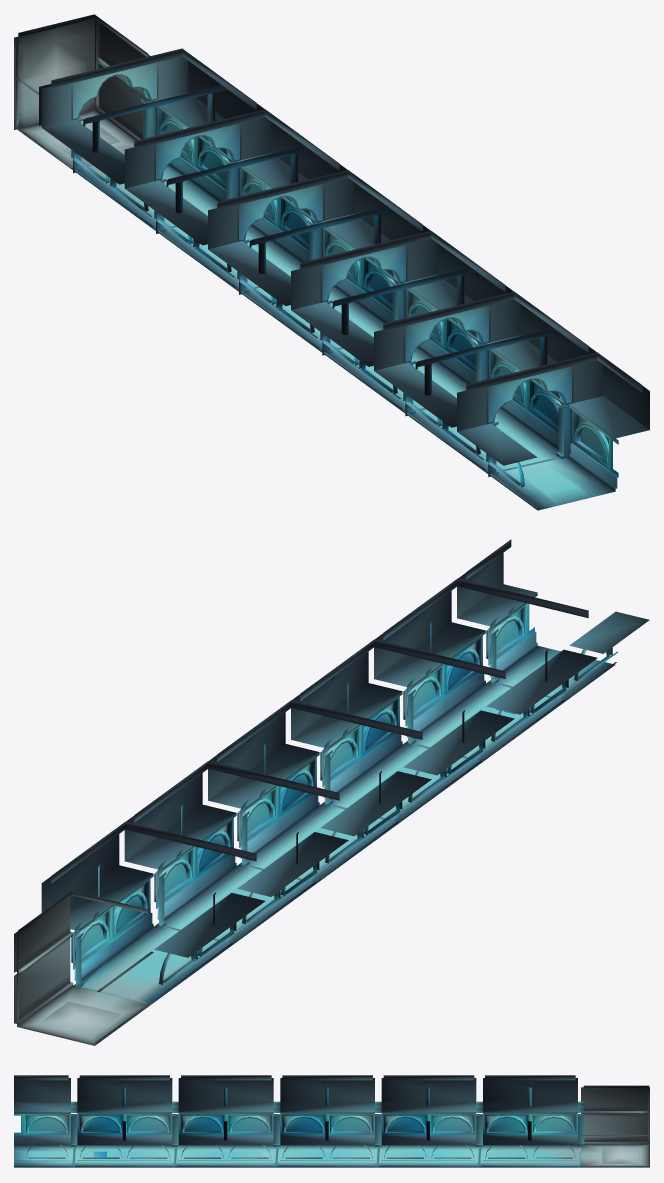
The model's file is 03HallB.gltf.
3 renders of one model, top to bottom at view 1: azimuth 30°, elevation 25°; view 2: azimuth 150°, elevation 25°; view 3: azimuth 270°, elevation 25°, orthographic. The views are drawn at different scales.
Visible parts, largest first — view 1: stg040_o36_Mesh_0013, stg040_o36_Mesh_0010, stg040_o36_Mesh_0004, stg040_o36_Mesh_0003, stg040_o36_Mesh_0005, stg040_o36_Mesh_0008, stg040_o36_Mesh_0006, stg040_o36_Mesh_0015, stg040_o36_Mesh_0007, stg040_o36_Mesh_0012, stg040_o36_Mesh_0002, stg040_o36_Mesh_0011; view 2: stg040_o36_Mesh_0004, stg040_o36_Mesh_0003, stg040_o36_Mesh_0008, stg040_o36_Mesh_0013, stg040_o36_Mesh_0005, stg040_o36_Mesh_0015, stg040_o36_Mesh_0007, stg040_o36_Mesh_0012, stg040_o36_Mesh_0006, stg040_o36_Mesh_0009, stg040_o36_Mesh_0002; view 3: stg040_o36_Mesh_0004, stg040_o36_Mesh_0008, stg040_o36_Mesh_0005, stg040_o36_Mesh_0003, stg040_o36_Mesh_0013, stg040_o36_Mesh_0007, stg040_o36_Mesh_0012, stg040_o36_Mesh_0015, stg040_o36_Mesh_0006, stg040_o36_Mesh_0014, stg040_o36_Mesh_0002, stg040_o36_Mesh_0009 (+1 smaller).
Part boxes in pixels (x1,y1,x2,y2): stg040_o36_Mesh_0013: (14, 19, 642, 505); stg040_o36_Mesh_0010: (44, 56, 600, 429); stg040_o36_Mesh_0004: (42, 92, 649, 465); stg040_o36_Mesh_0003: (14, 89, 618, 507); stg040_o36_Mesh_0005: (15, 19, 618, 510); stg040_o36_Mesh_0008: (20, 61, 649, 429); stg040_o36_Mesh_0006: (14, 14, 603, 474); stg040_o36_Mesh_0015: (83, 167, 607, 508); stg040_o36_Mesh_0007: (99, 22, 606, 459); stg040_o36_Mesh_0012: (99, 63, 574, 492); stg040_o36_Mesh_0002: (14, 99, 559, 473); stg040_o36_Mesh_0011: (14, 66, 94, 111); stg040_o36_Mesh_0004: (70, 584, 649, 960); stg040_o36_Mesh_0003: (14, 615, 617, 1043); stg040_o36_Mesh_0008: (19, 553, 503, 1044); stg040_o36_Mesh_0013: (16, 539, 595, 1045); stg040_o36_Mesh_0005: (17, 603, 615, 1023); stg040_o36_Mesh_0015: (82, 647, 607, 1001); stg040_o36_Mesh_0007: (14, 620, 518, 972); stg040_o36_Mesh_0012: (14, 678, 563, 1037); stg040_o36_Mesh_0006: (18, 604, 517, 985); stg040_o36_Mesh_0009: (39, 1001, 120, 1036); stg040_o36_Mesh_0002: (18, 682, 558, 1045); stg040_o36_Mesh_0004: (14, 1101, 577, 1145); stg040_o36_Mesh_0008: (14, 1078, 649, 1167); stg040_o36_Mesh_0005: (14, 1088, 649, 1167); stg040_o36_Mesh_0003: (14, 1080, 649, 1166); stg040_o36_Mesh_0013: (14, 1075, 649, 1167); stg040_o36_Mesh_0007: (29, 1087, 649, 1131); stg040_o36_Mesh_0012: (33, 1113, 649, 1164); stg040_o36_Mesh_0015: (14, 1146, 579, 1165); stg040_o36_Mesh_0006: (71, 1085, 649, 1144); stg040_o36_Mesh_0014: (14, 1151, 540, 1159); stg040_o36_Mesh_0002: (72, 1144, 649, 1167); stg040_o36_Mesh_0009: (602, 1148, 639, 1163).
Bounding box in the file's own units: 23.47 × 15.32 × 145.
